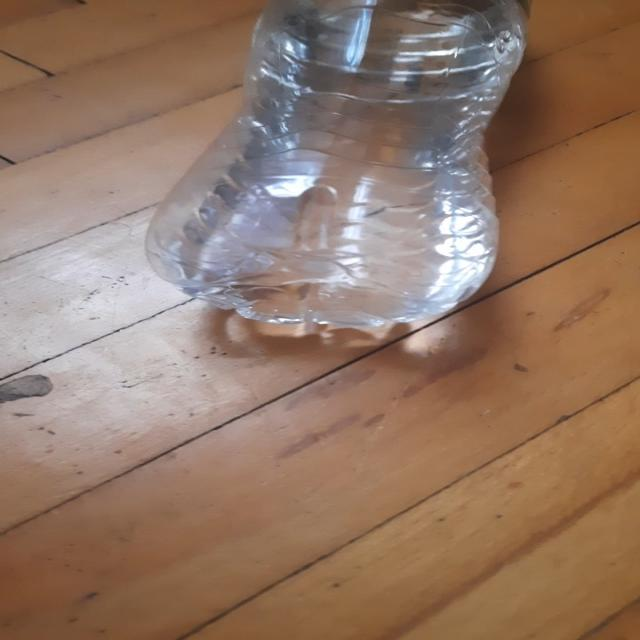Plastic: (144, 0, 531, 344)
